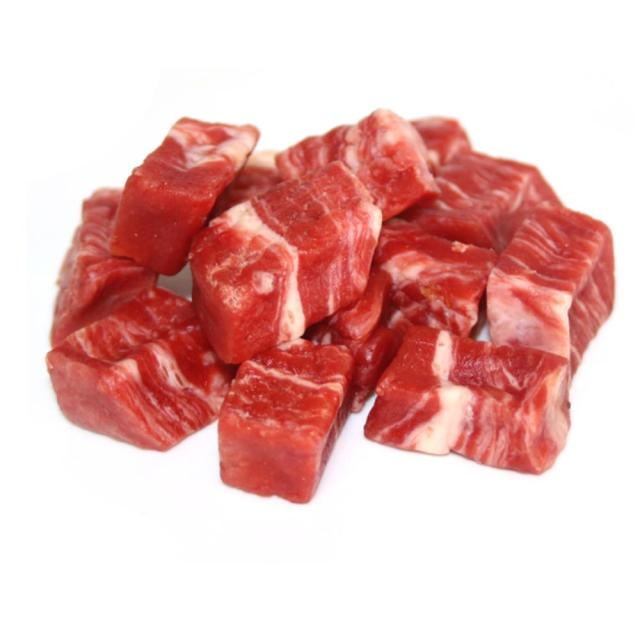beef: (144, 156, 478, 392)
